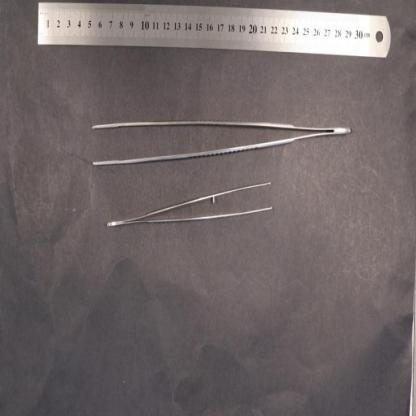DeBakey Dissector: (91, 119, 353, 166)
Gillies Toothed Dissector: (106, 180, 274, 226)
